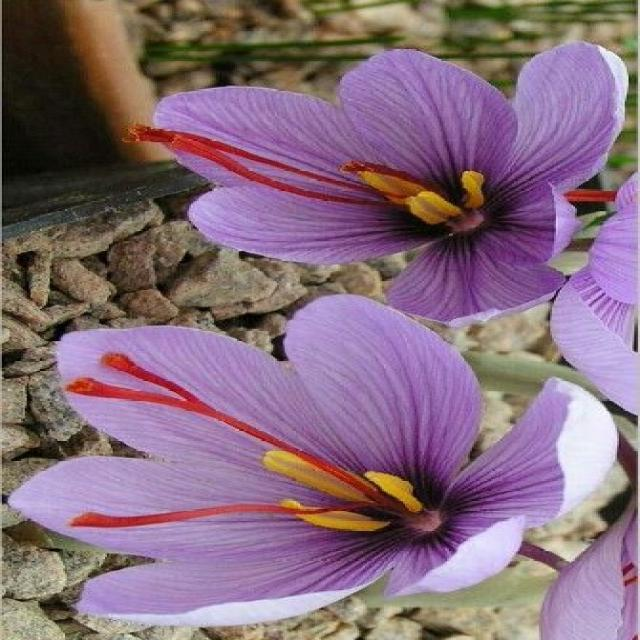Flower: (9, 295, 616, 626), (135, 42, 628, 322)
stigma: (98, 349, 379, 500), (66, 374, 370, 495), (132, 122, 400, 198), (164, 132, 404, 211), (67, 498, 377, 531), (344, 158, 446, 196), (558, 187, 620, 206)
